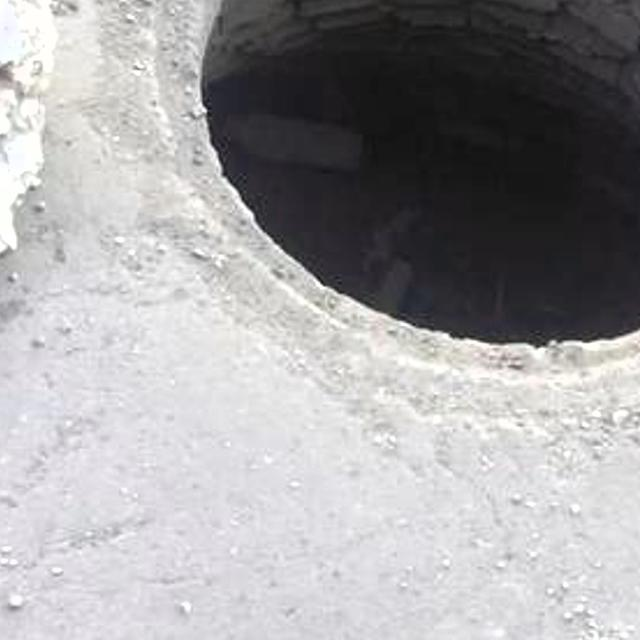lose: (132, 0, 640, 392)
